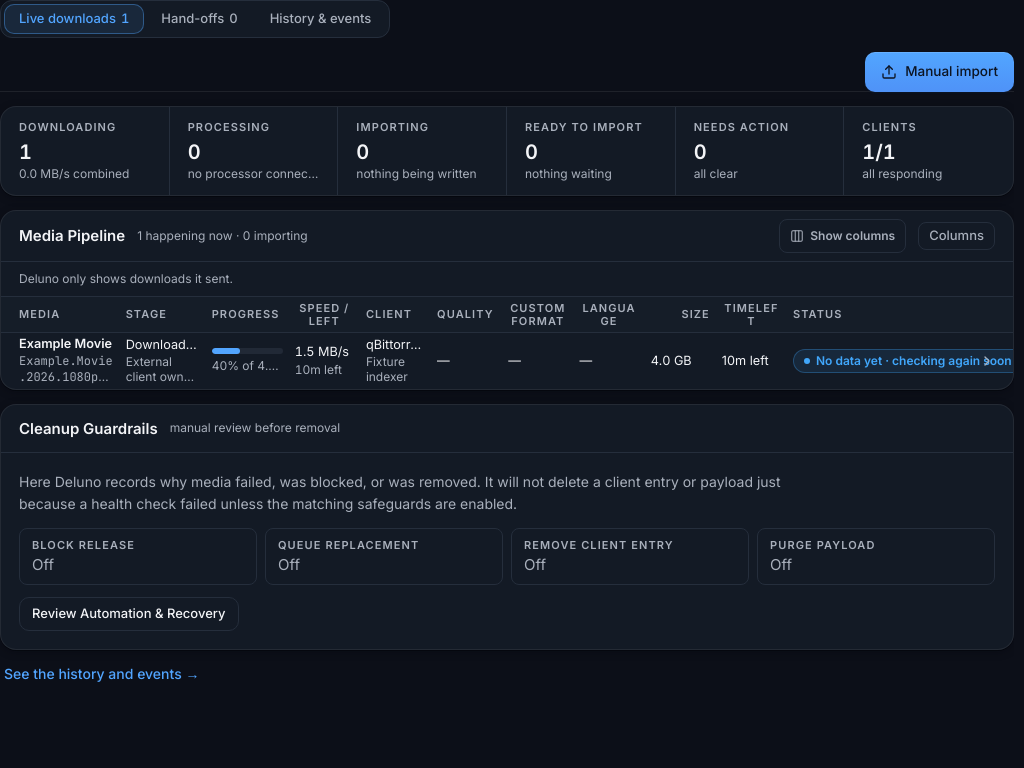
Scenario: download drawer: Health section › shows a visible finding under Health with its Dismiss button and recommended action
The image size is (1024, 768).
Click the text "Example.Movie.2026.1080p.WEB-DL-GROUP".
click(507, 360)  # box left=1, top=332, right=1013, bottom=388
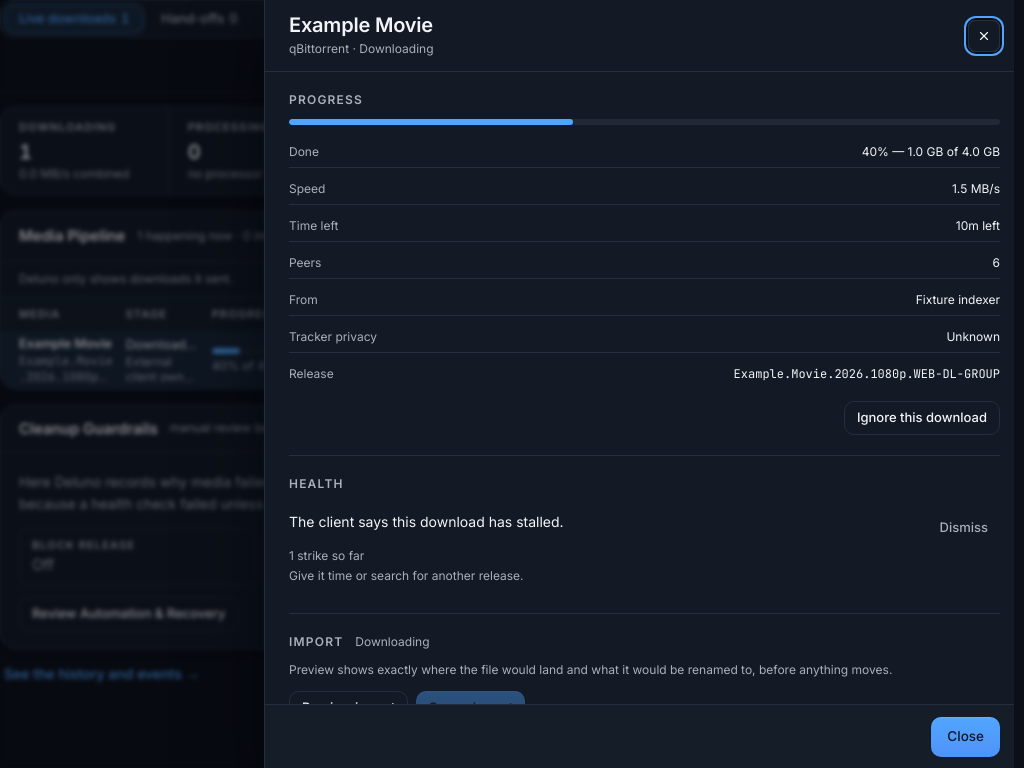
Expected: the text "Health" is shown, left=289, top=476, right=344, bottom=491
Expected: the text "The client says this download has stalled." is shown, left=289, top=511, right=564, bottom=532
Expected: the text "Give it time or search for another release." is shown, left=289, top=568, right=524, bottom=583
